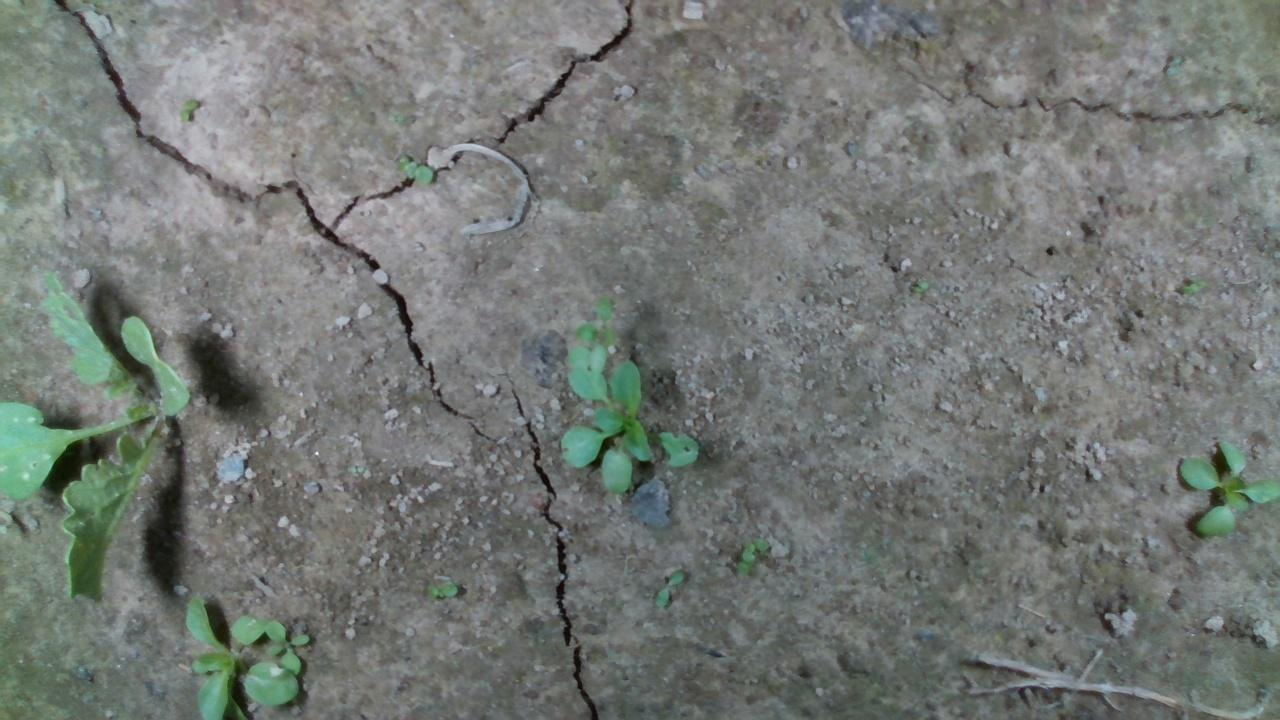weed: (650, 568, 685, 611), (393, 154, 433, 184), (424, 578, 457, 597), (176, 97, 197, 122), (910, 279, 928, 293)
